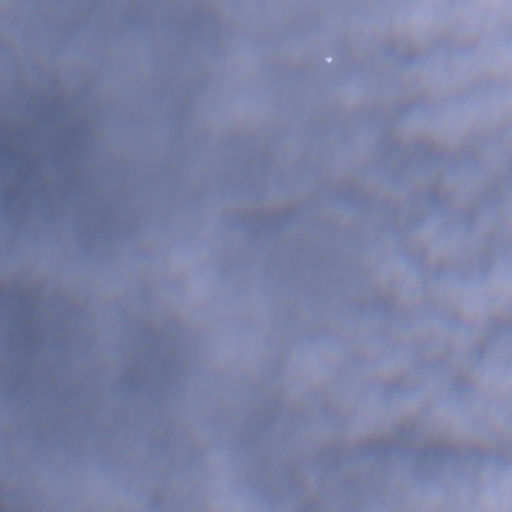Iceberg: (325, 57, 331, 62)
